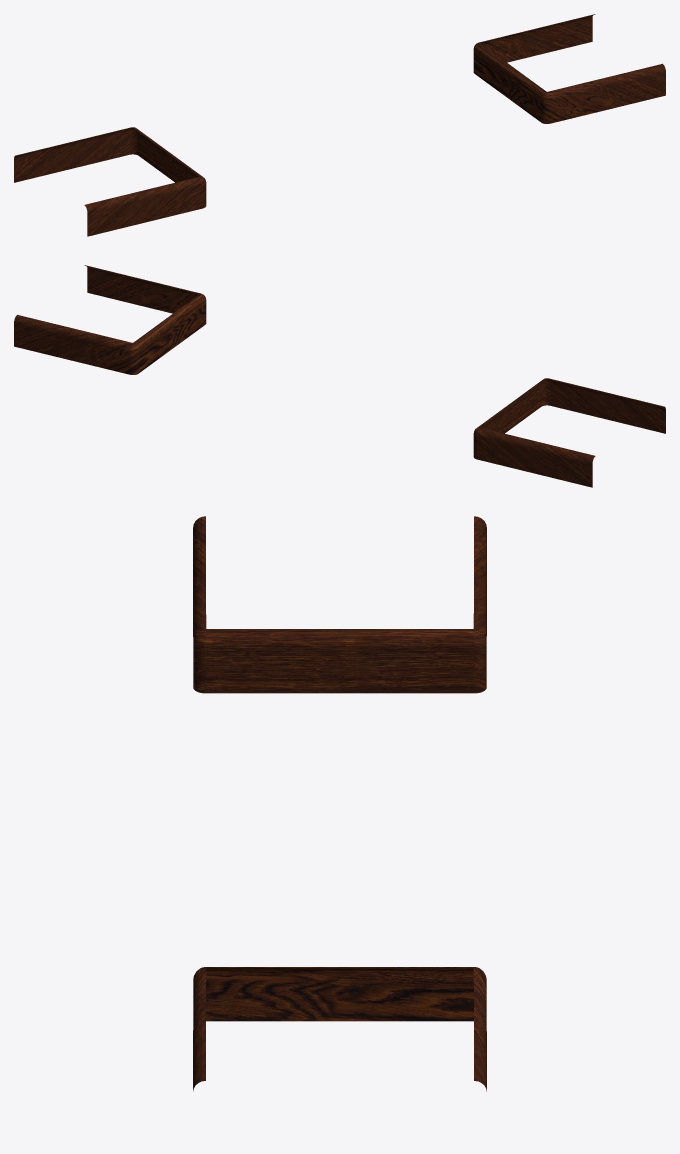
Rendered from baseboard_hole.fbx.
3 renders of one model, top to bottom at view 1: azimuth 30°, elevation 25°; view 2: azimuth 150°, elevation 25°; view 3: azimuth 270°, elevation 25°, orthographic. The views are drawn at different scales.
Visible parts, largest first — view 1: baseboard_hole; view 2: baseboard_hole; view 3: baseboard_hole.
Boxes of the visible parts, x1,y1,x2,y2 form: baseboard_hole: [14, 14, 665, 236]; baseboard_hole: [14, 265, 665, 487]; baseboard_hole: [193, 516, 486, 1091].
Bounding box in the file's own units: 200 × 9.73 × 44.
